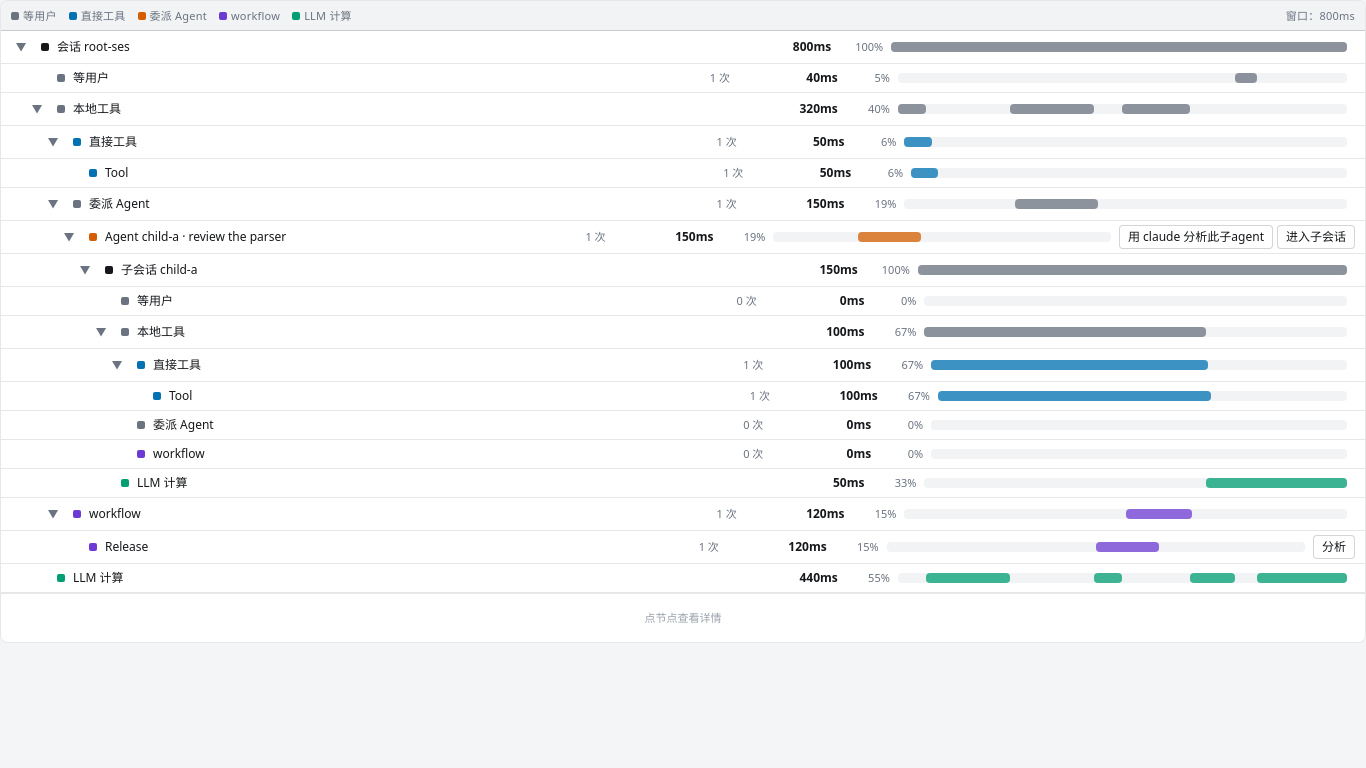
Scenario: TreeView › expands and collapses child rows
The width and height of the screenshot is (1366, 768).
Expected: the list item "▼ 直接工具 1 次 50ms 6%" is shown, [1,126,1365,159]
Click the button named "收起 本地工具".
click(37, 109)  # box [25,97,49,121]
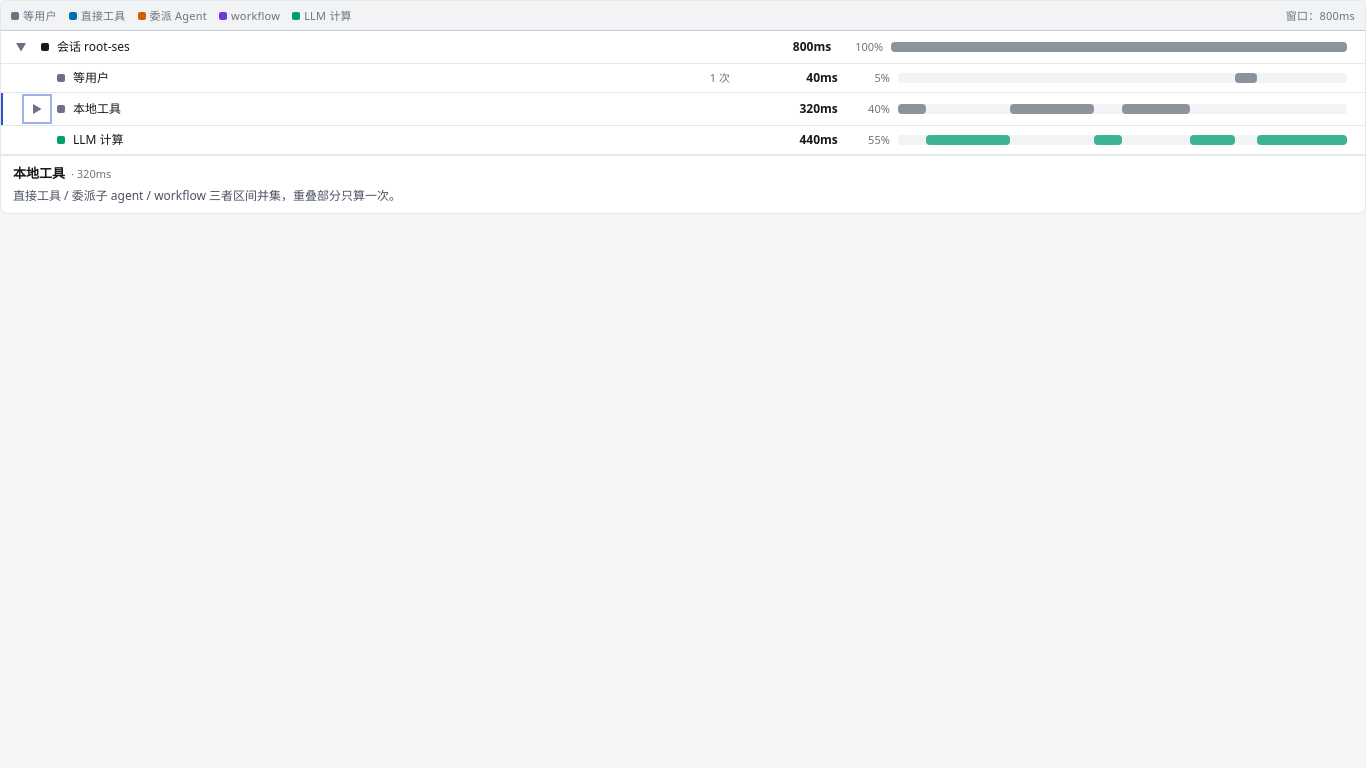
Now the button named "展开 本地工具" is shown
Click the button named "展开 本地工具".
click(37, 109)  # box [25,97,49,121]
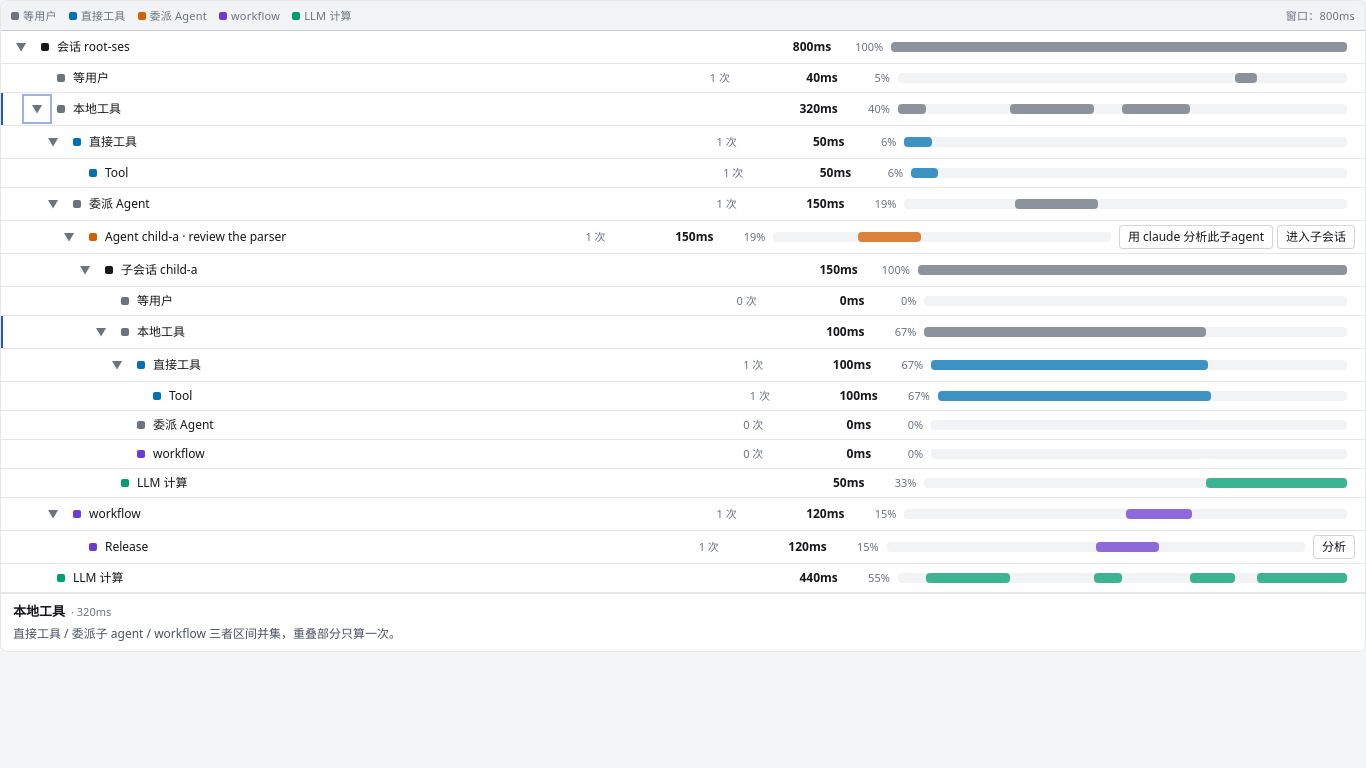
Now the list item "▼ 直接工具 1 次 50ms 6%" is shown, box [1,126,1365,159]
